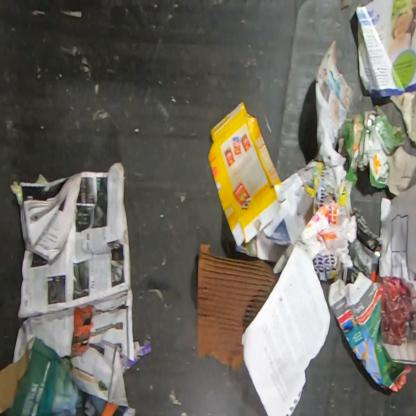cardboard: (206, 101, 288, 248), (196, 242, 282, 370), (0, 350, 30, 415)
metal: (366, 113, 376, 133)
